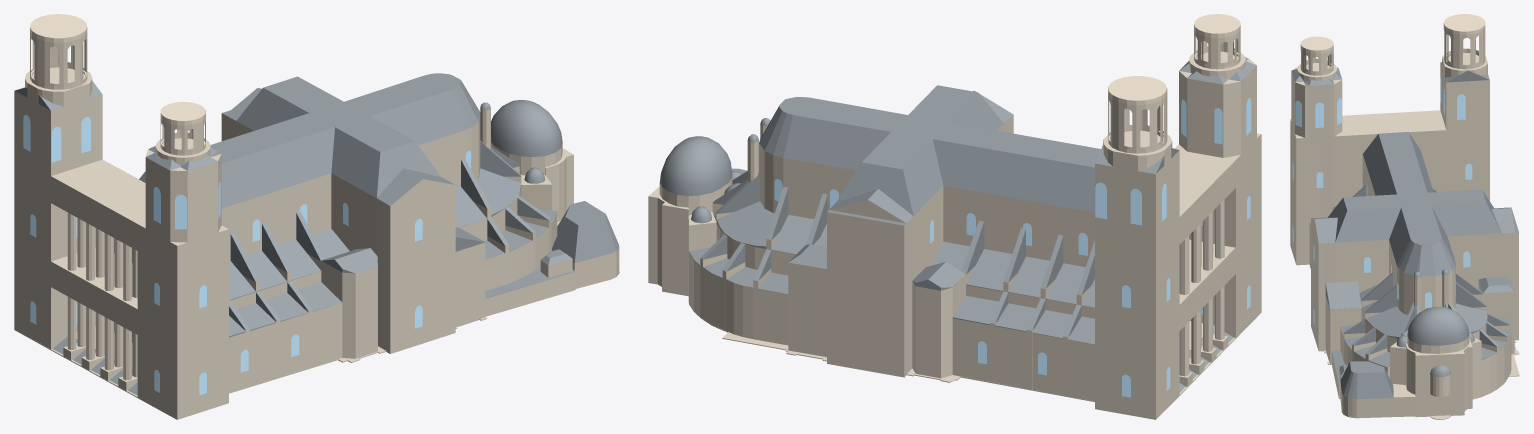
The picture shows the model from 3 angles, left to right: view 1: azimuth 30°, elevation 25°; view 2: azimuth 150°, elevation 25°; view 3: azimuth 270°, elevation 25°; orthographic projection. The views are drawn at different scales.
Parts seen in each view (by area): view 1: stone, roof, window, trim; view 2: stone, roof, window, trim; view 3: stone, roof, window, trim.
Part boxes in pixels (x1,y1,x2,y2): stone: [14, 32, 619, 419]; roof: [15, 73, 619, 395]; window: [23, 115, 470, 395]; trim: [30, 14, 205, 155]; stone: [648, 29, 1261, 419]; roof: [659, 57, 1256, 392]; window: [774, 97, 1251, 397]; trim: [1108, 14, 1240, 153]; stone: [1290, 26, 1519, 419]; roof: [1291, 62, 1518, 399]; window: [1292, 77, 1472, 325]; trim: [1300, 14, 1485, 75].
Size of the model in its own units: 125 by 70.3 by 65.58.
